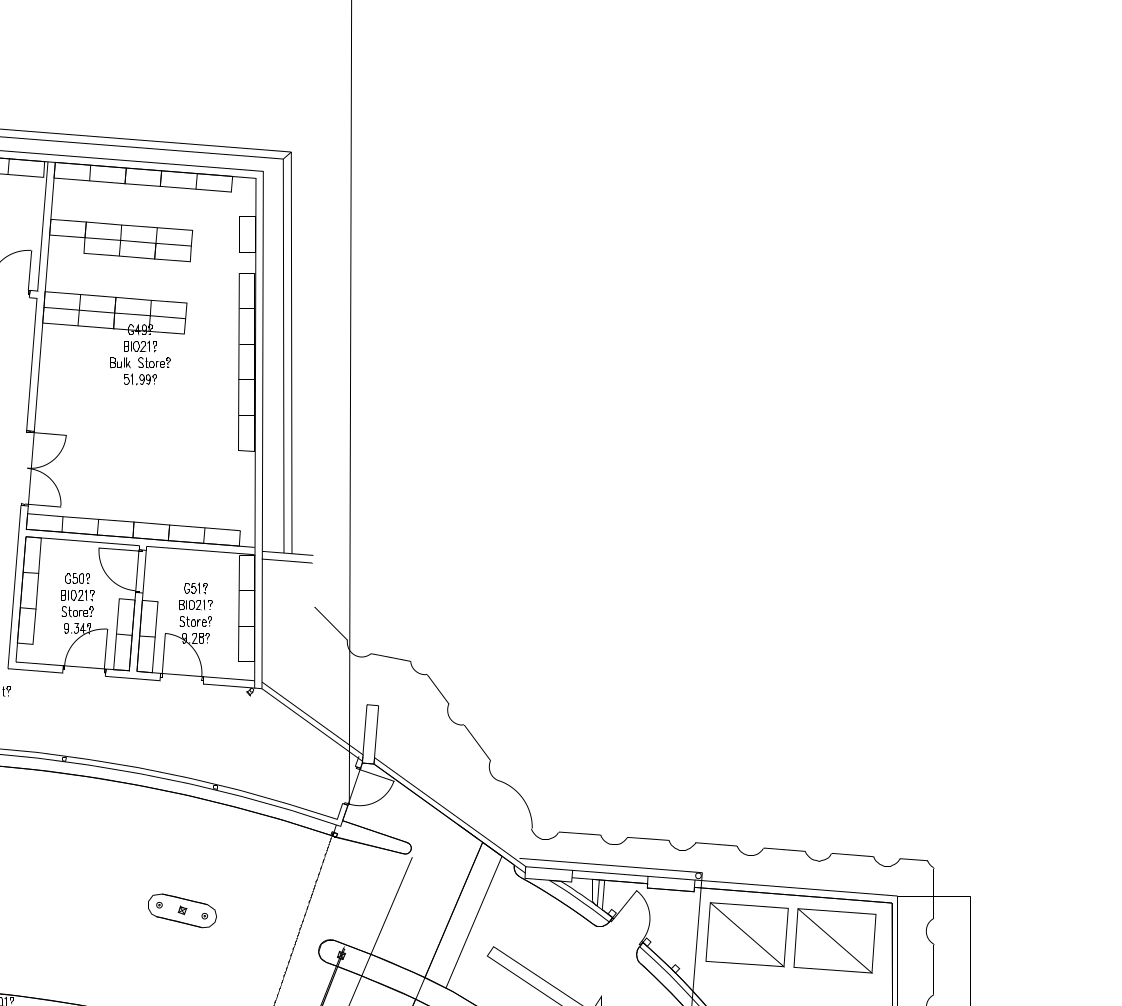door: (602, 887, 661, 941), (347, 765, 406, 819), (158, 627, 206, 685), (64, 618, 112, 676), (92, 543, 144, 595), (1, 241, 39, 301)
